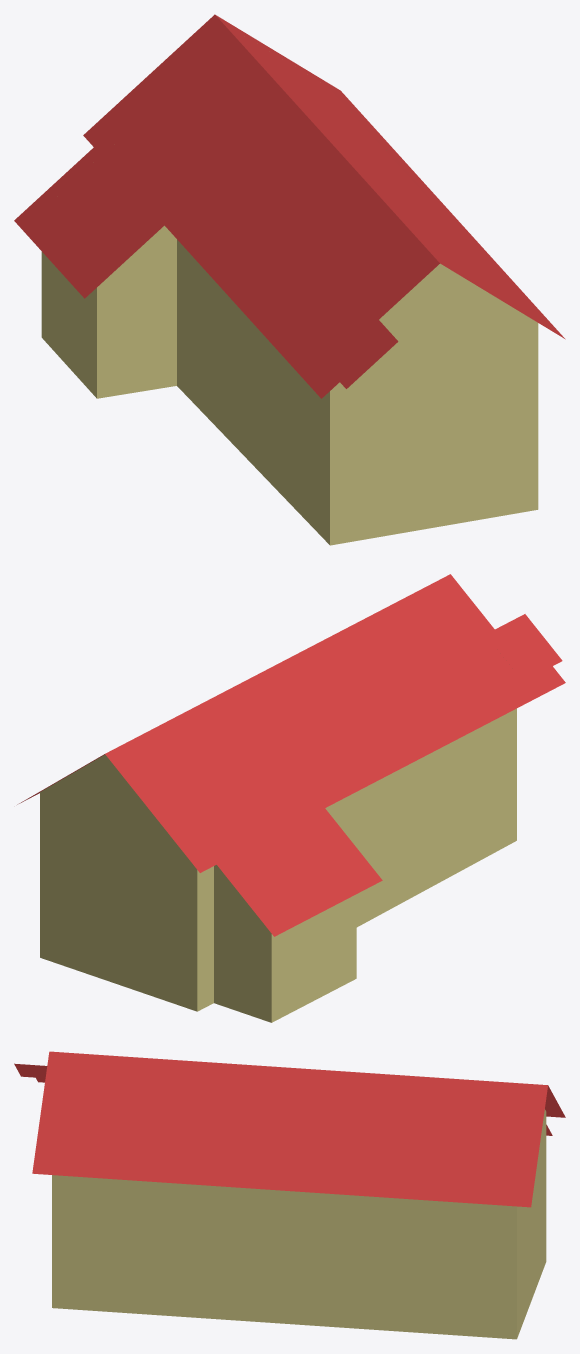
3 views of the same model, one above another, from view 1: azimuth 30°, elevation 25°; view 2: azimuth 150°, elevation 25°; view 3: azimuth 270°, elevation 25° (orthographic). The views are drawn at different scales.
Bounding box in the file's own units: 18.37 × 32.23 × 14.02.
